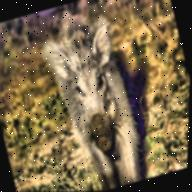boar: (29, 0, 167, 191)
